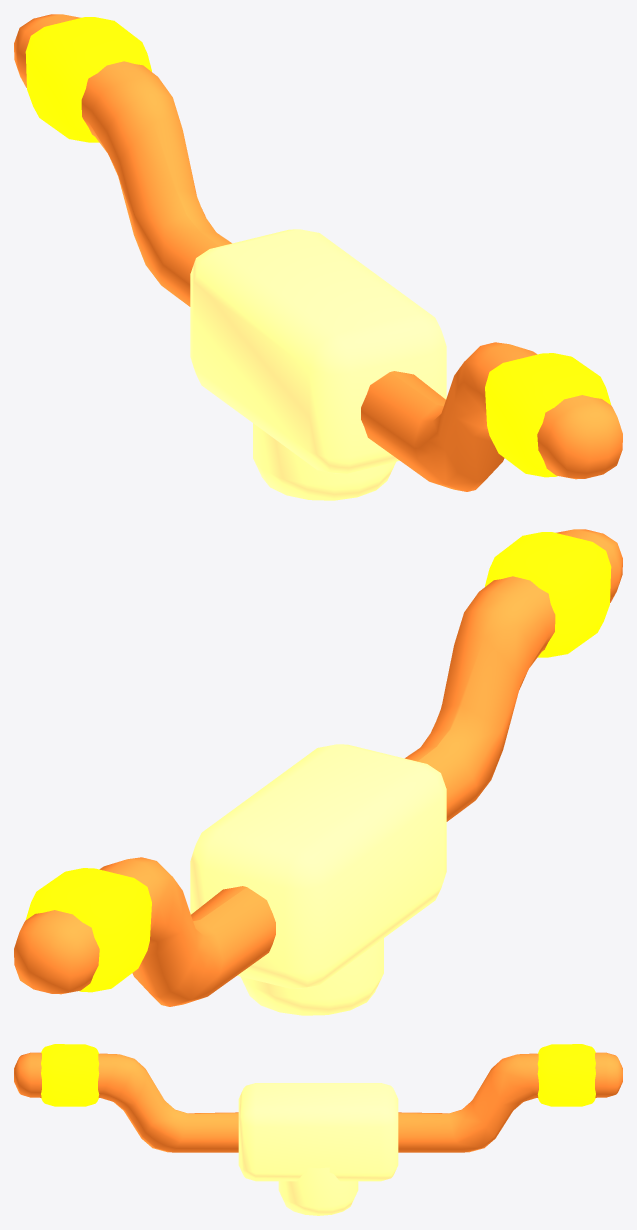
Rendered from Yellow-Lv3-Archer-WP.fbx.
3 views of the same model, one above another, from view 1: azimuth 30°, elevation 25°; view 2: azimuth 150°, elevation 25°; view 3: azimuth 270°, elevation 25° (orthographic). The views are drawn at different scales.
Visible parts, largest first — view 1: Yellow-Lv3-Archer-WP; view 2: Yellow-Lv3-Archer-WP; view 3: Yellow-Lv3-Archer-WP.
Boxes of the visible parts, x1,y1,x2,y2 form: Yellow-Lv3-Archer-WP: (14,14,622,500); Yellow-Lv3-Archer-WP: (14,529,622,1015); Yellow-Lv3-Archer-WP: (14,1044,622,1215).
Bounding box in the file's own units: 0.2637 × 0.5203 × 1.86.
